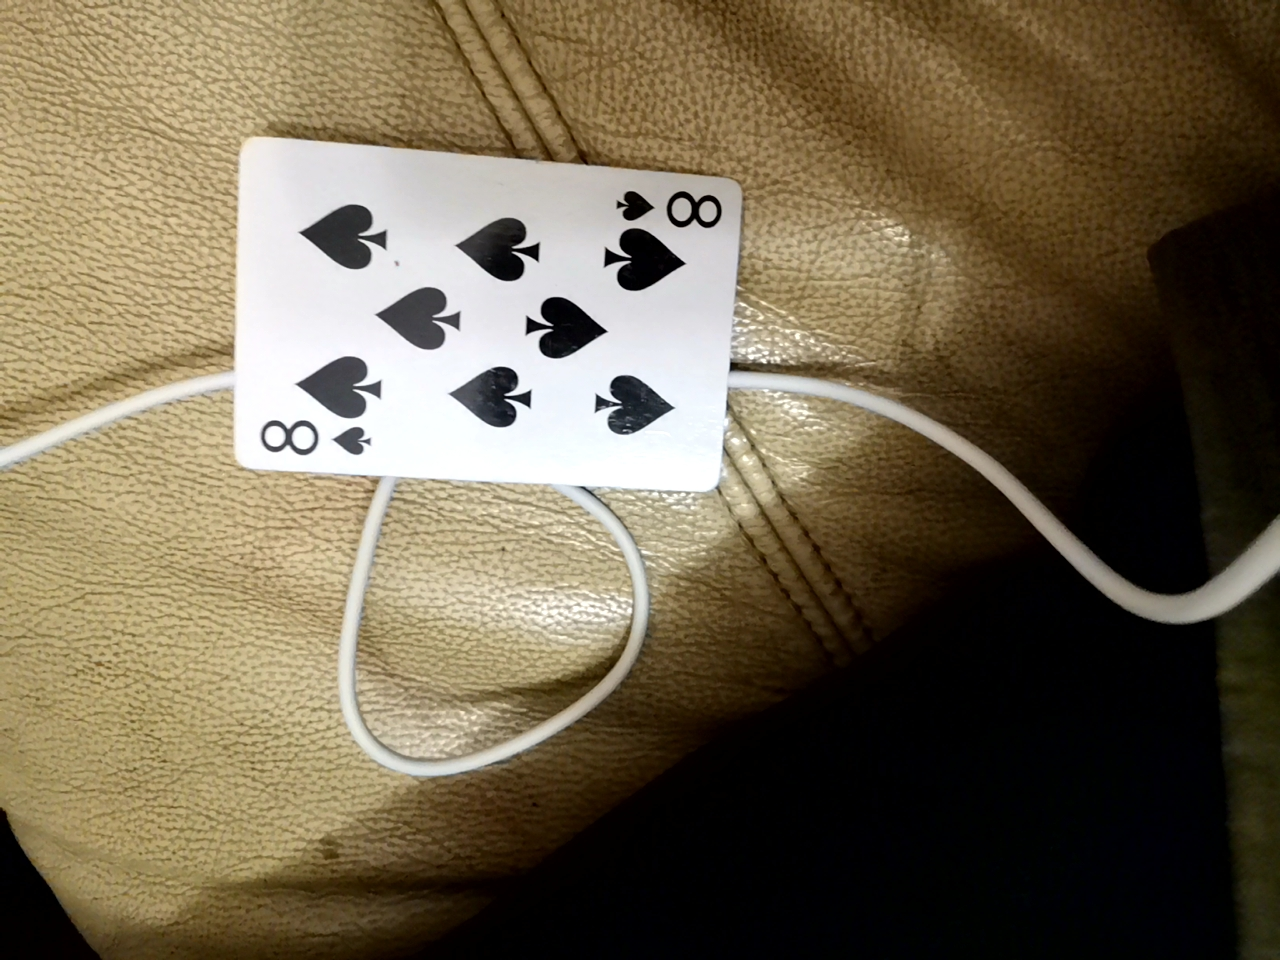ht 8: (225, 147, 756, 501)
